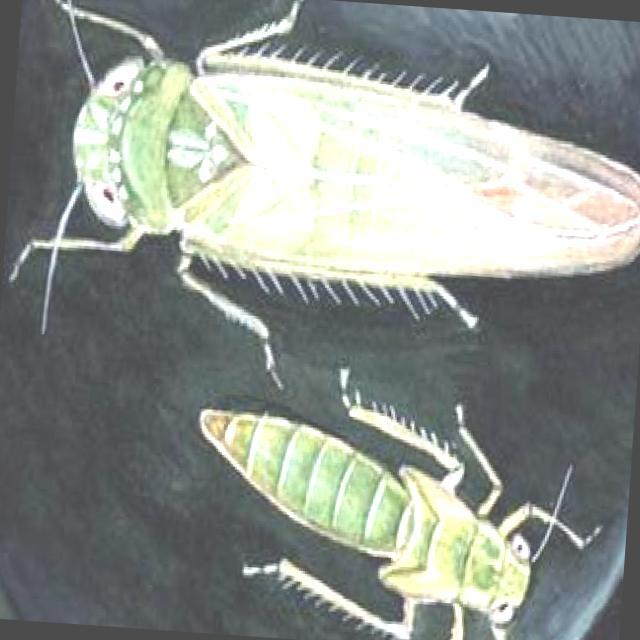green leaf hopper: (10, 0, 639, 388), (200, 369, 600, 639)
